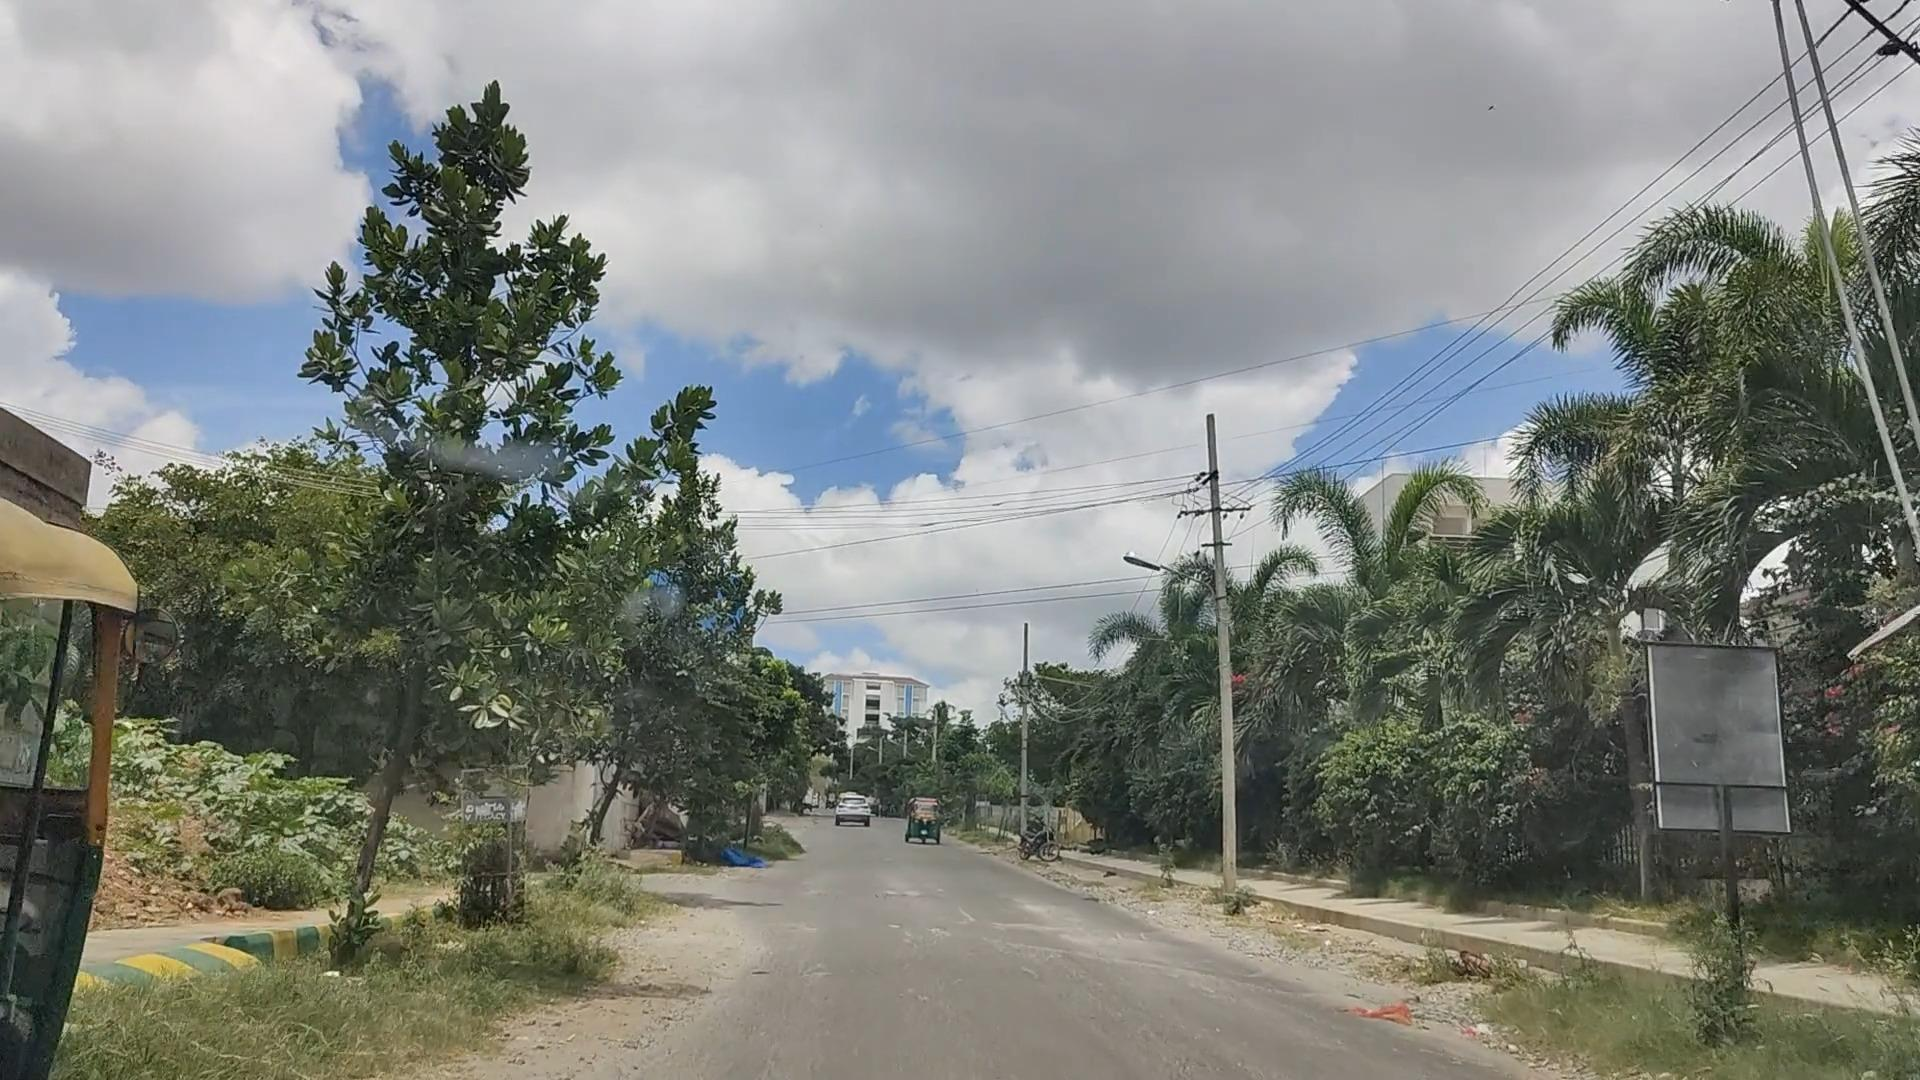RoadDamages: (954, 876, 1179, 976)
